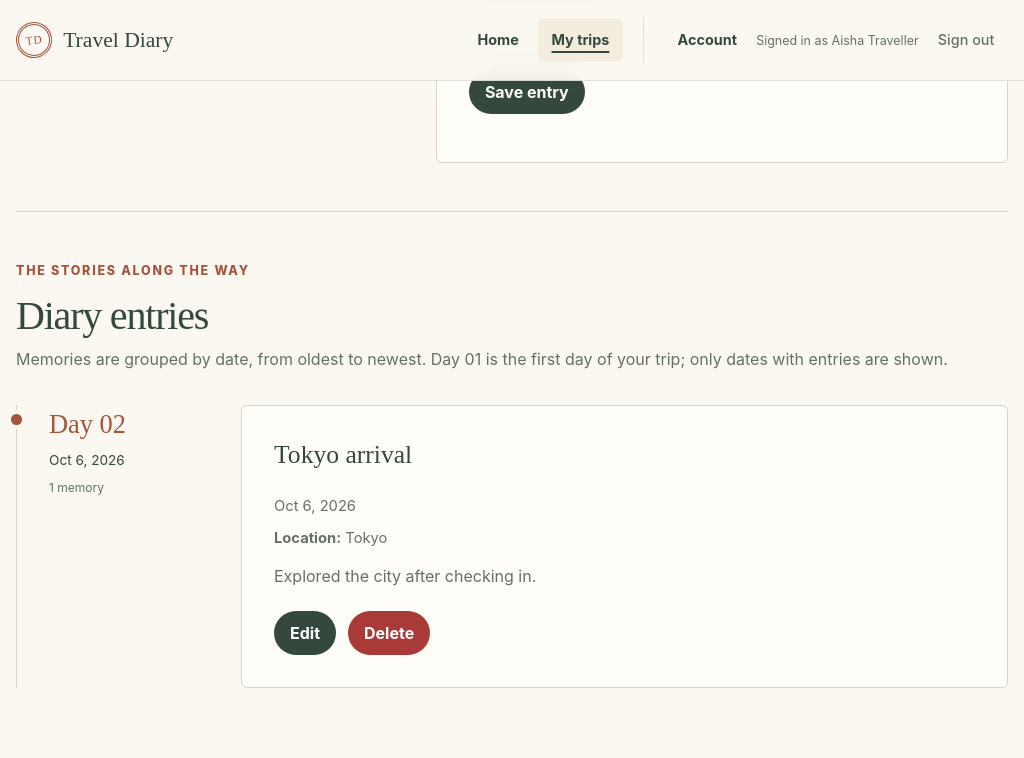
TripDetails owner actions › updates a diary entry in place
(page scrolled)
Click the button "Edit" at (305, 633), box [274,611,336,655]
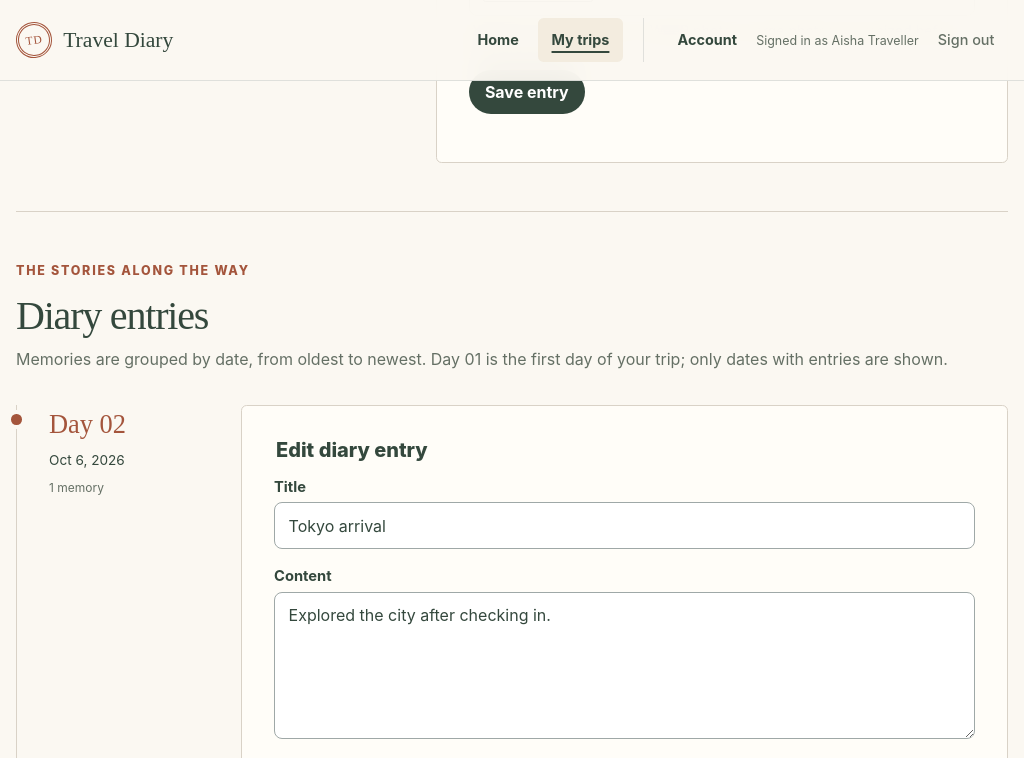
Replace the text in the field labelled "Title" with "First night in Tokyo" at (624, 526), box [274,502,975,549]
(page scrolled)
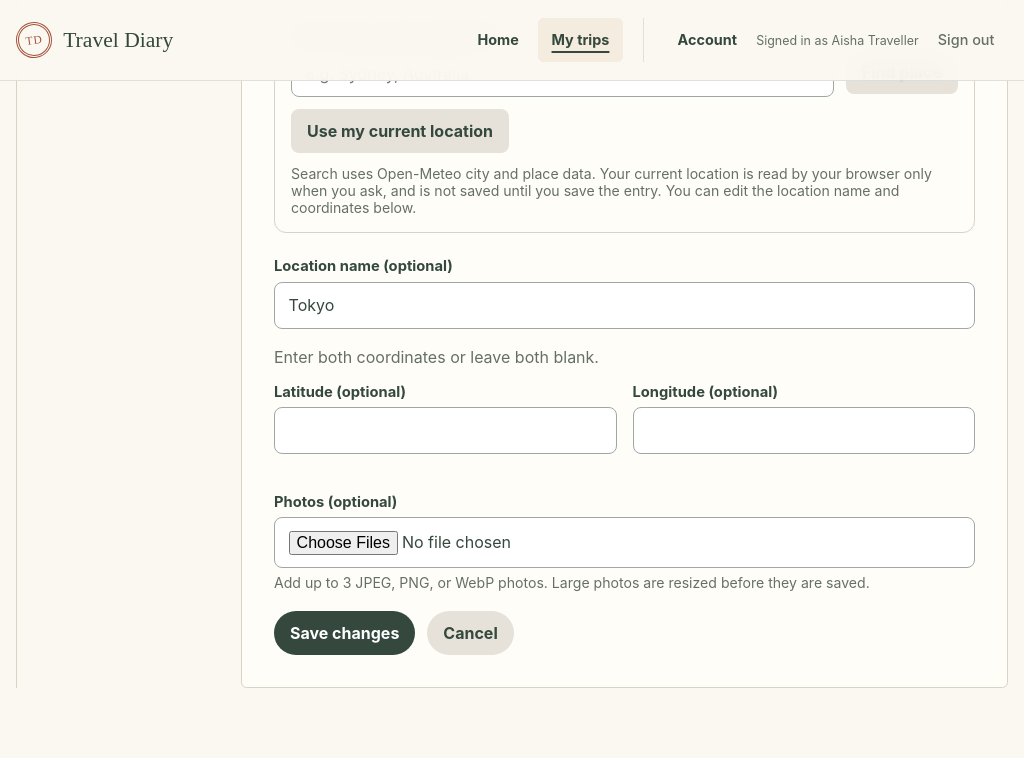
Click the button "Save changes" at (345, 633), box [274,611,415,655]
(page scrolled)
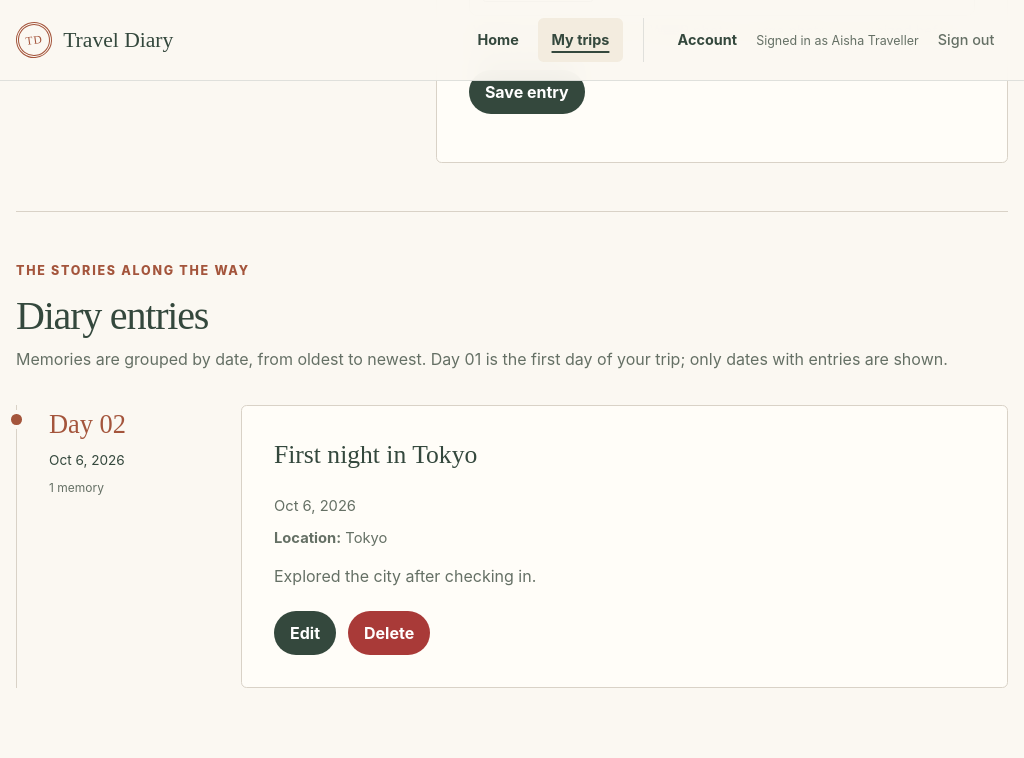
Expected: the heading "First night in Tokyo" is shown, [274,440,477,469]
